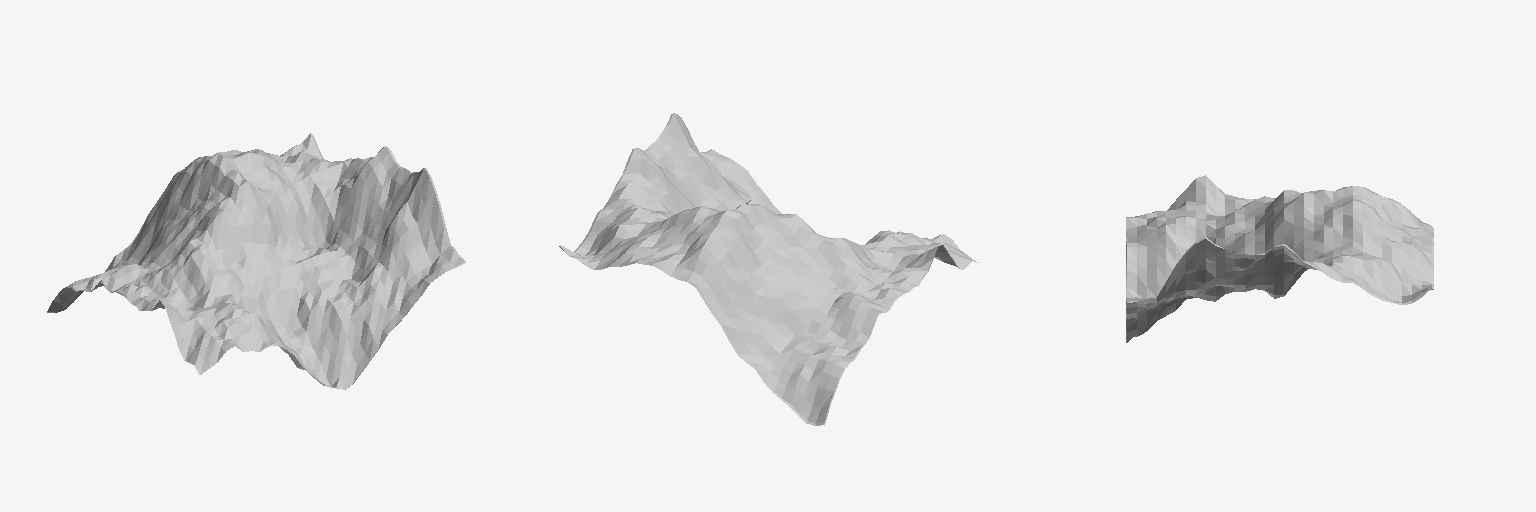
File: terrain_-1_2.obj
3 renders of one model, left to right at view 1: azimuth 30°, elevation 25°; view 2: azimuth 150°, elevation 25°; view 3: azimuth 270°, elevation 25°, orthographic.
Visible parts, largest first — view 1: terrain_-1_2_Plane.065; view 2: terrain_-1_2_Plane.065; view 3: terrain_-1_2_Plane.065.
Part boxes in pixels (x1,y1,x2,y2): terrain_-1_2_Plane.065: (47,133,465,389); terrain_-1_2_Plane.065: (559,113,977,425); terrain_-1_2_Plane.065: (1126,175,1433,342).
Size of the model in its own units: 32 by 19.15 by 32.